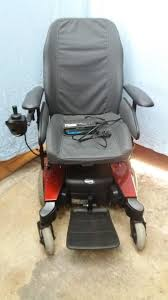wheelchair: (1, 16, 162, 259)
